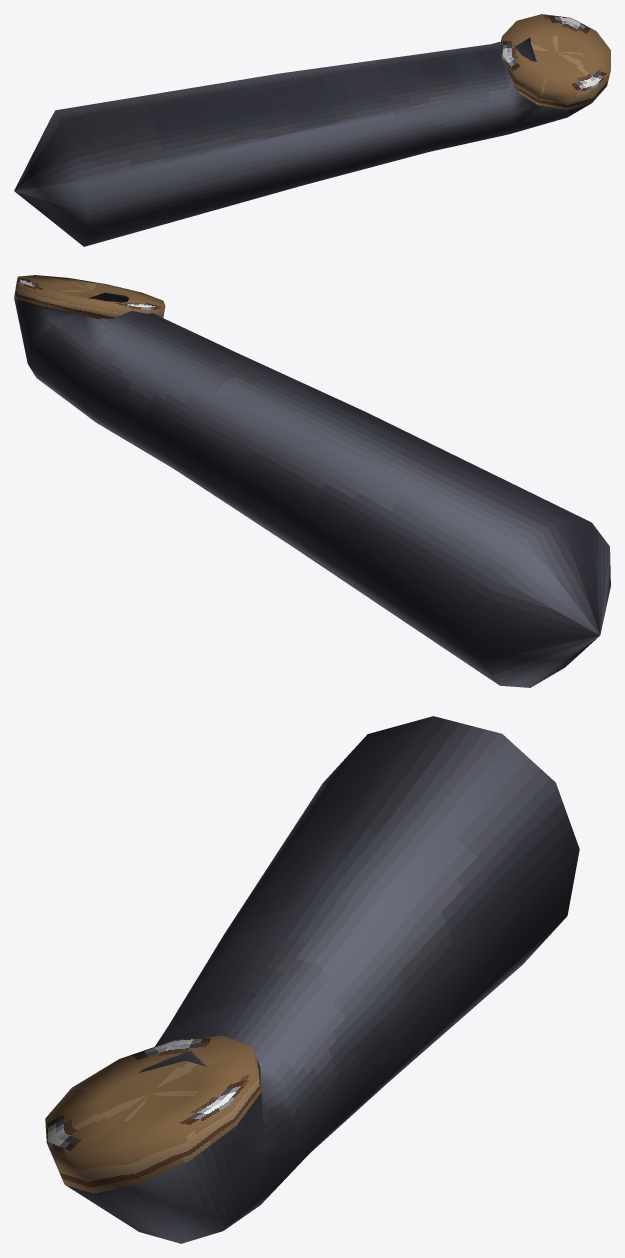
The model's file is pistol_hand.glb.
The picture shows the model from 3 angles, top to bottom: view 1: azimuth 30°, elevation 25°; view 2: azimuth 150°, elevation 25°; view 3: azimuth 270°, elevation 25°; orthographic projection. The views are drawn at different scales.
Parts seen in each view (by area): view 1: arm; view 2: arm; view 3: arm.
Boxes of the visible parts, x1,y1,x2,y2 form: arm: (14,14,610,246); arm: (14,275,610,687); arm: (45,716,579,1243).
Size of the model in its own units: 0.6661 by 0.1979 by 0.3026.
Materials: 1 (1 with a texture image).
